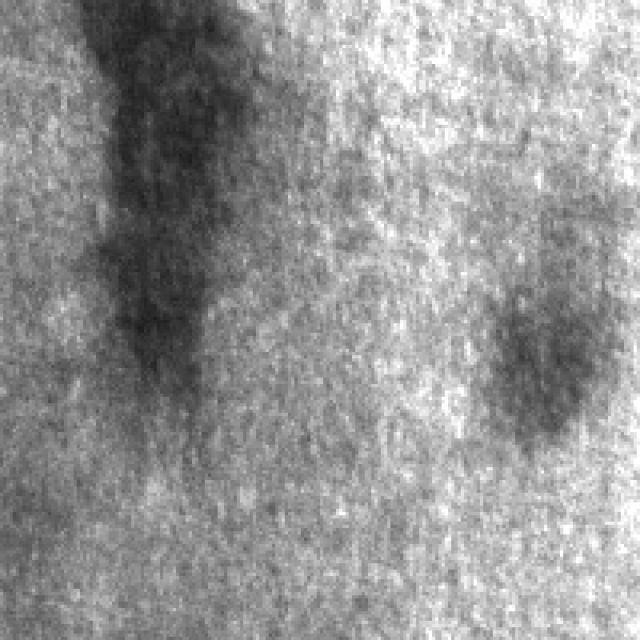patches: (90, 0, 246, 371), (486, 278, 614, 445)
